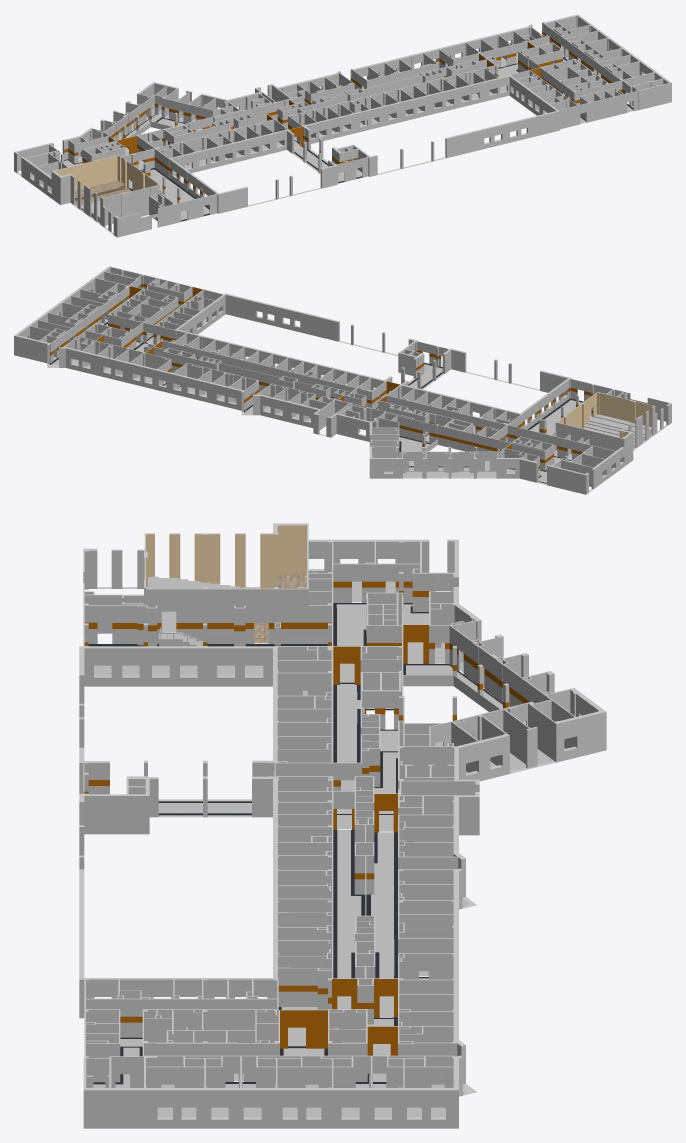
File: Hall_3dFloor.fbx
The picture shows the model from 3 angles, top to bottom: view 1: azimuth 30°, elevation 25°; view 2: azimuth 150°, elevation 25°; view 3: azimuth 270°, elevation 25°; orthographic projection. The views are drawn at different scales.
Visible parts, largest first — view 1: Plane; view 2: Plane; view 3: Plane.
Boxes of the visible parts, box(x1,y1,x2,y2) form: Plane: box(14, 14, 671, 237); Plane: box(14, 266, 671, 494); Plane: box(79, 523, 606, 1128).
Bounding box in the file's own units: 12922 × 603 × 5230.
